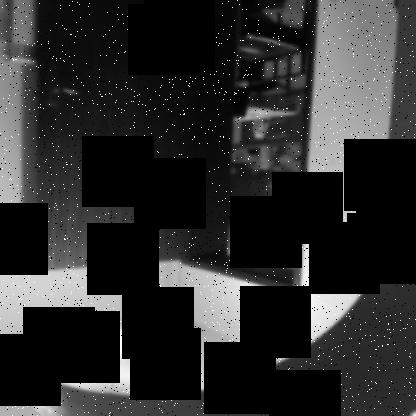Porte: (31, 1, 321, 297)
